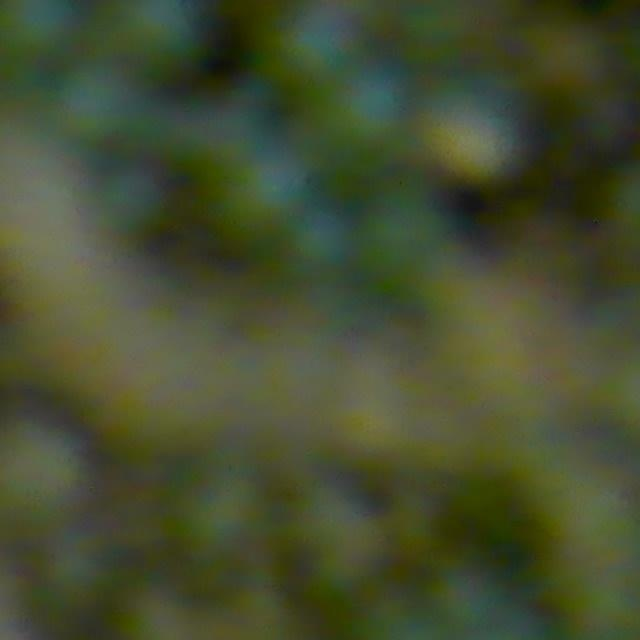SeaGrape: (419, 83, 525, 187), (0, 417, 87, 525), (322, 60, 414, 159), (222, 143, 311, 233), (55, 59, 143, 144), (273, 1, 358, 83), (529, 18, 612, 98), (109, 0, 206, 68), (0, 0, 81, 62), (286, 205, 356, 276)
